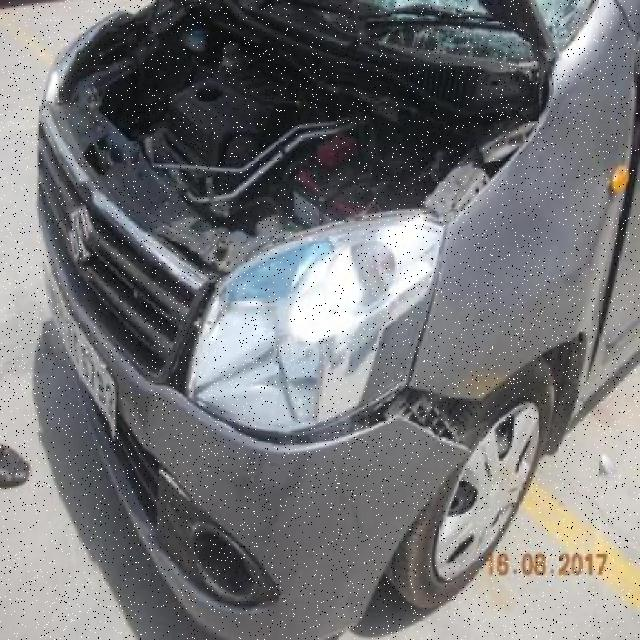damage: (188, 385, 481, 452), (585, 69, 640, 389)
